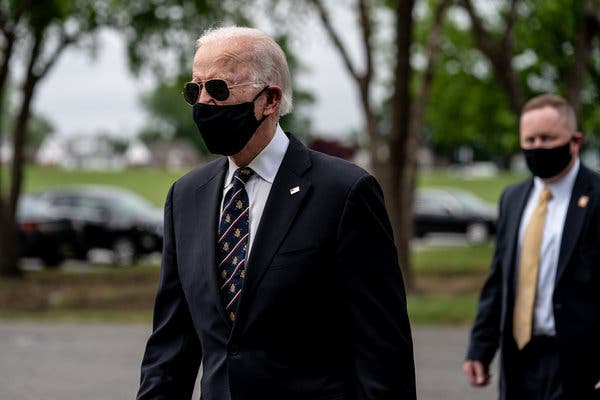mask: (176, 29, 295, 160), (505, 89, 587, 184)
